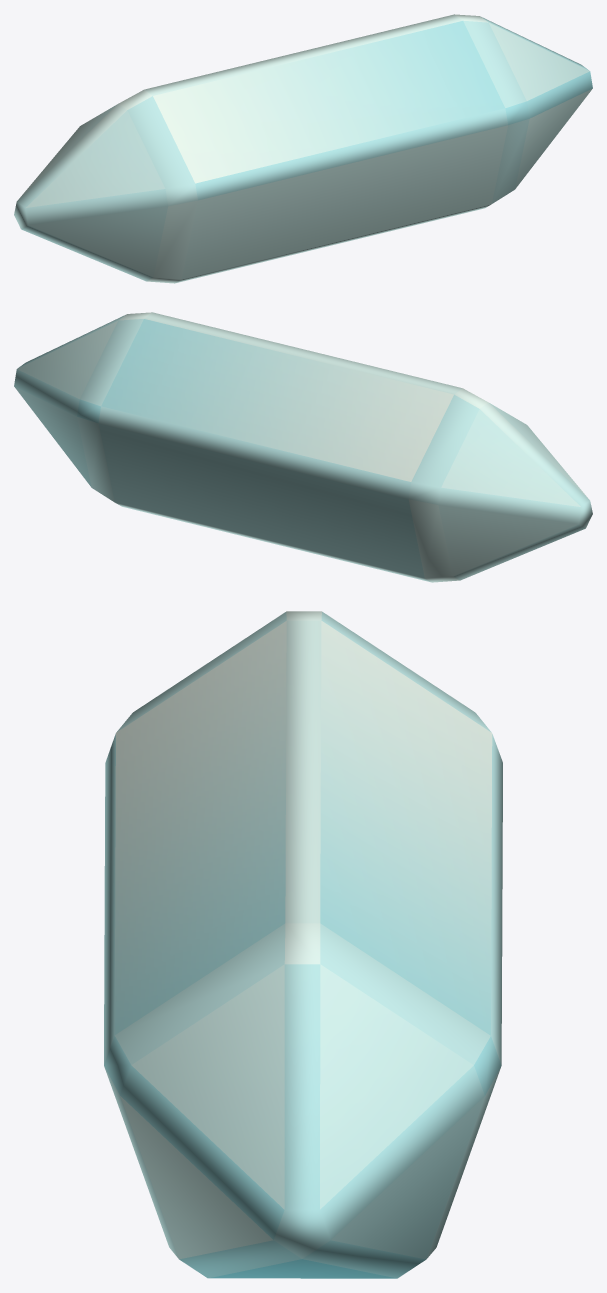
Rendered from christal_diamond_1.fbx.
The picture shows the model from 3 angles, top to bottom: view 1: azimuth 30°, elevation 25°; view 2: azimuth 150°, elevation 25°; view 3: azimuth 270°, elevation 25°; orthographic projection. The views are drawn at different scales.
Parts seen in each view (by area): view 1: christal_diamond_1; view 2: christal_diamond_1; view 3: christal_diamond_1.
Boxes of the visible parts, bbox=[...] form: christal_diamond_1: bbox=[14, 14, 592, 283]; christal_diamond_1: bbox=[14, 312, 592, 582]; christal_diamond_1: bbox=[104, 611, 502, 1278].
Bounding box in the file's own units: 110 × 31.95 × 33.68.
Materials: 1 (1 with a texture image).
